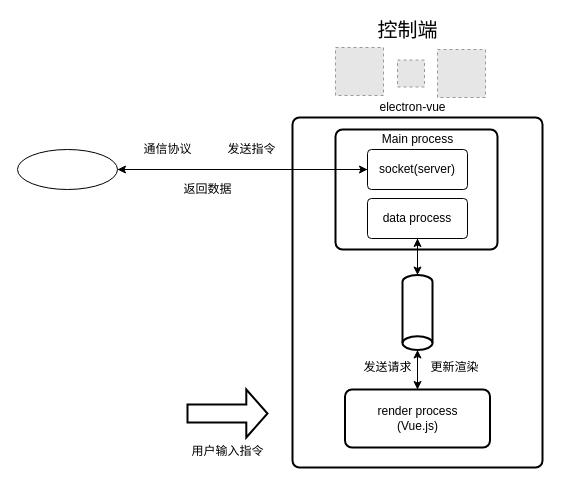
The diagram is 561 pixels wide and 485 high, and some of its shapes have lost their labels. Grey dashed boxes stand in for pictures. Each missing label, with the centre of its shape:
"IPC" belongs at (417,312).
"被控端" belongs at (67,169).
